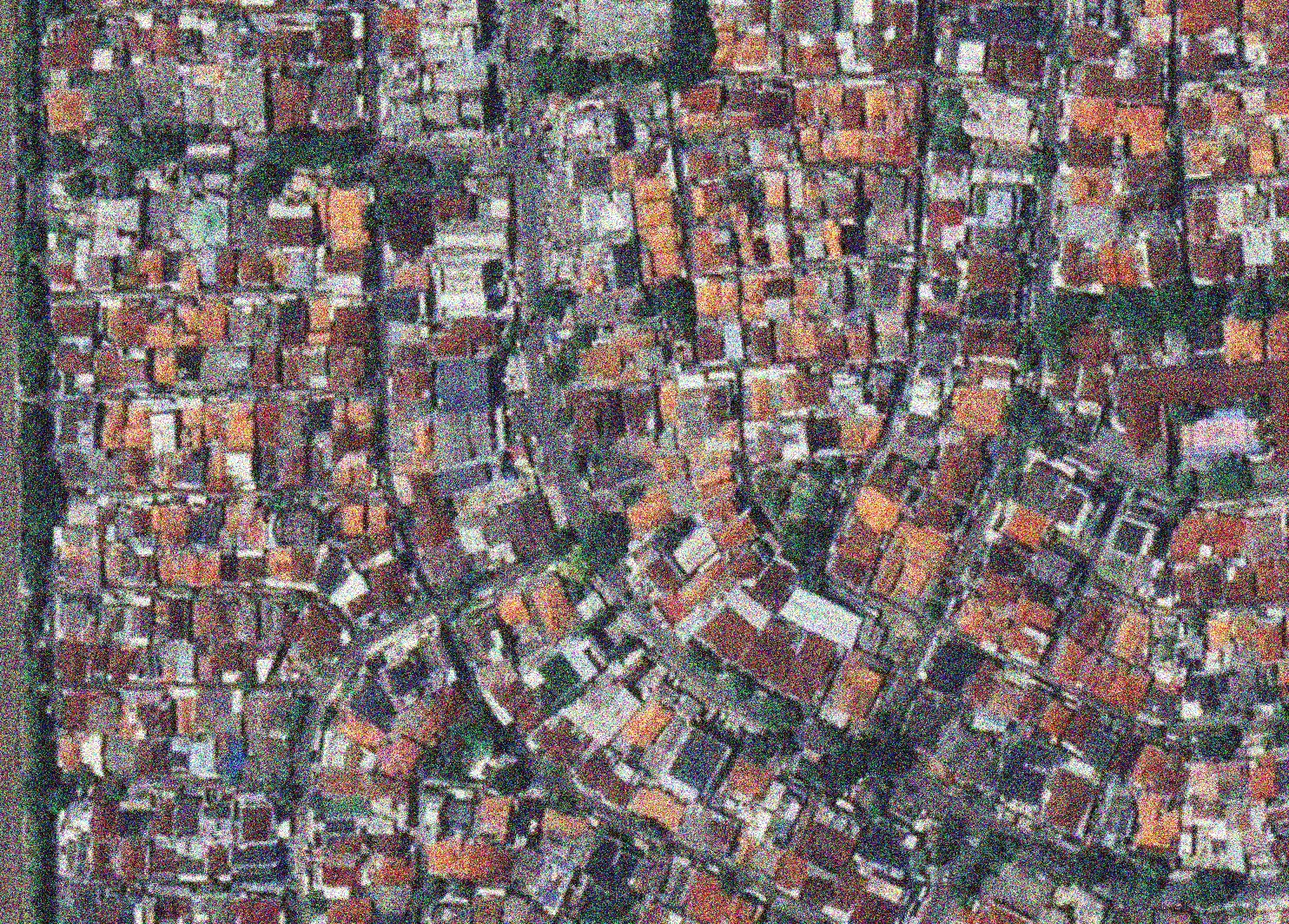building: (1116, 360, 1288, 467), (1175, 75, 1289, 182), (790, 75, 922, 167), (791, 78, 922, 167), (793, 81, 922, 166), (794, 81, 922, 166), (795, 81, 922, 166), (357, 618, 462, 714), (866, 513, 956, 614), (383, 672, 477, 763), (1081, 406, 1177, 494), (429, 171, 515, 266), (560, 664, 645, 750), (1065, 94, 1170, 157), (570, 0, 672, 64), (1089, 523, 1171, 602), (776, 580, 867, 650), (739, 773, 810, 861), (1033, 751, 1105, 837), (663, 719, 736, 799), (478, 665, 552, 743), (823, 510, 894, 590), (736, 614, 809, 691), (978, 851, 1057, 922), (822, 645, 892, 725), (989, 732, 1061, 809), (569, 742, 645, 814), (892, 681, 963, 758), (580, 437, 653, 510), (1180, 665, 1280, 718), (578, 825, 649, 899), (555, 94, 635, 159), (421, 833, 517, 887), (778, 629, 844, 707), (957, 85, 1039, 146), (1009, 448, 1078, 520), (852, 809, 924, 878), (384, 411, 440, 499), (793, 805, 863, 875), (1182, 130, 1276, 182), (923, 149, 970, 252), (710, 754, 776, 826), (1085, 776, 1145, 854), (455, 605, 519, 678), (528, 708, 596, 776), (920, 633, 986, 703), (1176, 813, 1252, 873), (1168, 506, 1247, 563), (930, 429, 989, 505), (695, 601, 762, 667), (285, 598, 351, 665), (818, 359, 879, 430), (937, 1, 1040, 43), (1081, 48, 1161, 102), (54, 505, 103, 593), (885, 515, 954, 576), (525, 570, 582, 643), (660, 512, 725, 576), (1100, 600, 1162, 666), (571, 238, 640, 296), (746, 549, 808, 613), (1185, 219, 1245, 285), (1058, 482, 1118, 548), (948, 592, 1013, 652), (133, 55, 186, 128), (1067, 0, 1128, 63), (1105, 501, 1164, 565), (673, 554, 735, 614), (629, 535, 689, 597), (85, 67, 143, 131), (345, 673, 407, 732), (420, 0, 478, 63), (948, 726, 1003, 791), (618, 693, 676, 754), (300, 541, 358, 601), (676, 867, 737, 924), (391, 463, 446, 526), (1132, 789, 1184, 855), (627, 780, 691, 833), (417, 533, 476, 590), (556, 625, 613, 684), (846, 483, 906, 539), (856, 25, 926, 73), (403, 492, 458, 553), (902, 365, 946, 441), (214, 70, 266, 134), (1067, 588, 1119, 651), (434, 357, 491, 414), (619, 482, 678, 537), (364, 555, 418, 615), (528, 852, 578, 916), (311, 61, 358, 128), (435, 262, 489, 320), (1077, 711, 1129, 771), (949, 384, 1006, 438), (429, 315, 497, 360), (725, 83, 790, 129), (688, 459, 744, 512), (1032, 884, 1108, 923), (329, 704, 387, 755), (92, 194, 140, 255), (306, 724, 360, 778), (672, 370, 714, 439), (428, 407, 474, 470), (180, 193, 232, 248), (1104, 660, 1155, 716), (387, 192, 433, 254), (981, 534, 1035, 586), (997, 500, 1052, 551), (1102, 723, 1150, 781), (1187, 756, 1247, 802), (676, 81, 728, 134), (43, 17, 96, 69), (119, 688, 172, 740), (1136, 678, 1187, 732), (997, 617, 1052, 667), (822, 863, 871, 918), (725, 129, 792, 169), (654, 853, 701, 910), (1051, 472, 1097, 530), (230, 842, 289, 887), (1024, 542, 1077, 592), (725, 537, 778, 587), (1153, 743, 1199, 800), (606, 641, 658, 691), (970, 566, 1023, 615), (1179, 35, 1242, 76), (432, 457, 495, 498), (1061, 395, 1107, 451), (960, 321, 1021, 363), (983, 43, 1041, 87), (909, 488, 961, 537), (327, 188, 369, 248), (724, 584, 776, 632), (980, 675, 1028, 727), (1044, 634, 1091, 687), (480, 500, 530, 549), (175, 299, 227, 346), (269, 75, 312, 131), (724, 754, 775, 801), (691, 221, 737, 273), (181, 498, 227, 550), (243, 734, 289, 786), (629, 848, 674, 901), (503, 794, 546, 849), (783, 33, 839, 75), (328, 566, 375, 616), (1059, 700, 1104, 752), (1127, 739, 1172, 791), (146, 189, 187, 246), (961, 657, 1005, 710), (102, 543, 156, 586), (537, 805, 591, 848), (195, 687, 242, 736), (268, 198, 314, 248), (698, 810, 744, 860), (741, 416, 786, 467), (1033, 692, 1077, 744), (1060, 204, 1120, 242), (673, 799, 718, 849), (769, 847, 814, 897), (1010, 678, 1054, 729), (710, 510, 761, 554), (1009, 593, 1061, 636), (741, 368, 783, 421), (1067, 320, 1112, 369), (965, 252, 1020, 292), (784, 34, 839, 74), (473, 791, 514, 844), (242, 694, 292, 737), (1178, 0, 1239, 35), (1063, 129, 1115, 170), (312, 13, 353, 65), (621, 383, 659, 439), (888, 425, 937, 468), (104, 300, 149, 346), (56, 640, 104, 683), (439, 793, 482, 841), (888, 426, 937, 468), (54, 593, 96, 642), (265, 545, 315, 586), (1102, 325, 1153, 365), (519, 492, 558, 543), (592, 768, 638, 811), (1083, 653, 1124, 701), (508, 846, 548, 895), (1122, 152, 1173, 190), (1244, 512, 1288, 556), (104, 642, 148, 686), (701, 490, 747, 532), (231, 198, 268, 250), (56, 403, 95, 452), (846, 888, 899, 924), (331, 303, 374, 347), (46, 88, 88, 133), (414, 787, 447, 844), (1096, 239, 1136, 286), (953, 900, 1034, 923), (918, 279, 961, 322), (695, 277, 738, 320), (386, 317, 430, 359), (278, 504, 320, 548), (235, 639, 277, 683), (1153, 330, 1194, 375), (327, 345, 368, 390), (1224, 317, 1264, 363), (863, 467, 909, 507), (662, 473, 702, 519), (837, 414, 883, 454), (200, 21, 240, 67), (873, 36, 924, 72), (183, 140, 235, 175), (1220, 560, 1258, 607), (149, 737, 192, 778), (1061, 240, 1099, 286), (652, 586, 693, 628), (136, 247, 179, 287), (155, 640, 195, 683), (493, 590, 533, 632), (915, 330, 959, 368), (150, 502, 188, 546), (579, 342, 624, 379), (762, 217, 794, 269), (56, 451, 102, 487), (678, 82, 725, 117), (257, 597, 292, 644), (737, 273, 770, 322), (1175, 93, 1214, 134), (57, 884, 98, 923), (805, 414, 842, 457), (153, 597, 190, 640), (872, 171, 908, 215), (754, 85, 790, 129), (1146, 237, 1181, 282), (842, 317, 877, 362), (86, 691, 121, 736), (966, 290, 1015, 322), (228, 894, 282, 923), (603, 265, 642, 305), (1069, 168, 1111, 205), (630, 144, 672, 181), (333, 450, 375, 487), (58, 688, 91, 735), (610, 239, 640, 290), (228, 842, 279, 872), (862, 871, 907, 905), (1183, 674, 1221, 714), (671, 606, 711, 644), (382, 740, 420, 780), (1109, 238, 1140, 287), (1193, 559, 1226, 605), (814, 320, 847, 366), (1005, 43, 1041, 85), (595, 191, 631, 233), (1245, 82, 1288, 117), (226, 400, 254, 453), (797, 871, 835, 910), (1075, 365, 1111, 406), (388, 258, 430, 293), (390, 391, 432, 426), (1152, 902, 1222, 923), (1241, 0, 1288, 31), (612, 324, 659, 355), (1186, 138, 1224, 176), (195, 300, 227, 345), (53, 302, 95, 336), (465, 410, 496, 456), (60, 835, 91, 881), (684, 147, 727, 180), (103, 734, 136, 777), (872, 265, 902, 312), (738, 274, 768, 321), (1185, 320, 1225, 355), (1191, 241, 1225, 282), (569, 156, 610, 190), (240, 802, 274, 843), (277, 300, 307, 346), (257, 28, 293, 66), (970, 226, 1017, 255), (1242, 29, 1276, 69), (1128, 126, 1169, 159), (209, 641, 242, 682), (362, 771, 407, 801), (635, 197, 677, 229), (1247, 755, 1276, 801), (321, 245, 367, 274), (574, 293, 617, 324), (118, 347, 149, 390), (1241, 227, 1275, 266), (685, 435, 734, 462), (864, 363, 897, 403), (954, 40, 986, 81), (149, 16, 181, 57), (1255, 618, 1284, 663), (250, 301, 279, 346), (319, 768, 364, 797), (124, 601, 153, 646), (433, 67, 483, 93), (1216, 186, 1244, 232), (173, 793, 201, 839), (425, 895, 471, 923), (629, 342, 668, 375), (1187, 761, 1219, 801), (1251, 555, 1280, 599), (721, 894, 765, 923), (1072, 648, 1102, 690), (780, 419, 810, 461), (117, 839, 147, 881), (327, 895, 372, 923), (371, 856, 413, 886), (876, 211, 910, 248), (1180, 37, 1213, 75), (689, 182, 722, 220), (734, 33, 767, 71), (343, 590, 381, 623), (790, 317, 819, 360), (423, 0, 477, 23), (91, 796, 118, 842), (694, 324, 725, 364), (251, 346, 279, 390), (277, 446, 307, 487), (219, 734, 244, 783), (123, 447, 152, 489), (277, 402, 304, 447), (1128, 186, 1171, 214), (300, 346, 328, 389), (970, 164, 1030, 184), (656, 378, 681, 426), (602, 389, 626, 439), (391, 369, 431, 399), (173, 690, 198, 738), (1172, 561, 1198, 607), (233, 595, 259, 641), (385, 29, 420, 63), (1266, 802, 1288, 856), (188, 550, 221, 586), (154, 892, 192, 923), (1132, 211, 1174, 239), (779, 370, 807, 412), (763, 277, 791, 319), (210, 643, 240, 682), (714, 16, 736, 69), (200, 346, 227, 389), (208, 598, 235, 641), (149, 795, 176, 838), (570, 404, 599, 444), (96, 602, 125, 642), (1239, 823, 1272, 858), (887, 0, 919, 36), (307, 298, 331, 346), (255, 400, 280, 446), (644, 224, 681, 255), (183, 87, 214, 124), (745, 806, 776, 843), (977, 360, 1015, 390), (633, 174, 671, 204), (95, 348, 122, 390), (237, 506, 264, 548), (369, 885, 411, 912), (379, 3, 418, 32), (792, 274, 818, 317), (433, 190, 469, 221), (653, 452, 689, 483), (1266, 310, 1288, 360), (727, 201, 752, 245), (97, 451, 125, 490), (1137, 15, 1171, 47), (363, 525, 397, 557), (423, 96, 459, 126), (1266, 807, 1288, 856), (80, 734, 105, 777), (187, 739, 216, 776), (733, 832, 762, 869), (150, 411, 176, 452), (1241, 190, 1269, 228), (289, 29, 317, 67), (101, 404, 124, 450), (706, 381, 730, 425), (125, 404, 149, 448), (457, 523, 489, 556), (470, 893, 504, 924), (152, 348, 179, 387), (239, 249, 269, 284), (228, 303, 253, 345), (176, 346, 205, 382), (205, 446, 228, 491), (771, 319, 795, 362), (748, 322, 772, 365), (673, 691, 705, 723), (608, 151, 634, 190), (137, 248, 163, 287), (324, 796, 368, 819), (1263, 27, 1288, 67), (986, 189, 1013, 226), (117, 808, 149, 839), (722, 319, 745, 362), (834, 30, 857, 73), (650, 250, 684, 279), (123, 16, 152, 50), (385, 294, 420, 322), (365, 500, 393, 535), (1212, 89, 1239, 125), (802, 372, 829, 408), (176, 451, 203, 487), (1053, 362, 1079, 399), (287, 250, 313, 287), (392, 344, 429, 370), (340, 503, 366, 540), (278, 607, 304, 644), (876, 331, 908, 361), (91, 841, 115, 881), (1221, 142, 1249, 176), (150, 841, 178, 875), (1253, 896, 1288, 923), (458, 94, 484, 130), (65, 496, 97, 525), (807, 0, 835, 33), (828, 272, 848, 318), (85, 256, 112, 290), (57, 735, 83, 770), (369, 831, 404, 857), (215, 248, 236, 291), (202, 401, 224, 442), (763, 171, 786, 210), (860, 132, 888, 164), (55, 348, 92, 372), (226, 346, 250, 383), (907, 393, 941, 419), (786, 168, 807, 210), (96, 504, 118, 544), (1206, 615, 1231, 650), (740, 0, 769, 30), (486, 540, 517, 568), (781, 0, 808, 32), (307, 399, 334, 431), (821, 219, 842, 260), (321, 865, 360, 887), (734, 228, 757, 265), (929, 200, 963, 225), (1191, 799, 1225, 824), (61, 802, 90, 831), (502, 894, 531, 923), (281, 348, 303, 386), (397, 101, 423, 133), (802, 180, 822, 221), (226, 451, 253, 481), (347, 395, 373, 426), (874, 310, 906, 335), (865, 86, 884, 128), (802, 227, 826, 260), (328, 834, 363, 856), (60, 209, 93, 232), (931, 249, 959, 276), (178, 396, 203, 426), (1193, 195, 1217, 226), (259, 446, 278, 485), (196, 249, 217, 284), (237, 557, 265, 583), (117, 894, 142, 923), (1035, 903, 1071, 923), (818, 174, 836, 213), (348, 425, 374, 452), (177, 28, 202, 56), (48, 231, 77, 255), (153, 455, 175, 486), (147, 322, 174, 347), (930, 278, 959, 301), (838, 129, 861, 158), (1177, 825, 1197, 858), (207, 847, 229, 877), (50, 264, 75, 290), (1231, 617, 1255, 644), (840, 225, 861, 255), (580, 195, 598, 230), (1187, 633, 1204, 670), (726, 176, 750, 202), (179, 857, 206, 880), (1274, 751, 1288, 795), (205, 895, 227, 923), (750, 236, 771, 265), (391, 63, 415, 88), (120, 701, 136, 738), (203, 799, 231, 820), (332, 426, 347, 465), (132, 507, 152, 536), (1275, 129, 1288, 172), (1116, 504, 1140, 527), (764, 279, 791, 299), (1272, 241, 1288, 274), (1248, 802, 1266, 831), (368, 815, 395, 834), (852, 0, 873, 24), (864, 227, 879, 260), (1234, 804, 1251, 833), (789, 234, 806, 262), (1274, 185, 1288, 216), (1143, 0, 1169, 16), (224, 503, 240, 528), (932, 45, 948, 68), (334, 468, 353, 487), (392, 398, 416, 406), (1146, 525, 1158, 538), (136, 742, 140, 776), (647, 103, 655, 118), (393, 359, 403, 367), (360, 426, 371, 432), (363, 398, 370, 406), (334, 427, 341, 435)
tree: (798, 717, 885, 808), (1143, 273, 1231, 342), (569, 505, 642, 578), (445, 698, 515, 770), (1095, 278, 1169, 343), (1060, 836, 1123, 899), (649, 42, 717, 100), (860, 726, 922, 786), (665, 0, 722, 62), (415, 734, 477, 791), (1109, 851, 1172, 906), (18, 455, 67, 525), (300, 125, 370, 174), (232, 155, 295, 209), (124, 124, 189, 175), (1225, 278, 1283, 335), (1031, 310, 1080, 370), (644, 272, 699, 324), (5, 531, 57, 583), (1019, 836, 1072, 886), (1201, 452, 1256, 500), (970, 826, 1020, 877), (1045, 284, 1097, 332), (6, 263, 49, 321), (677, 639, 731, 685), (927, 813, 970, 870), (576, 886, 642, 923), (1194, 720, 1247, 766), (437, 567, 496, 607), (1002, 385, 1050, 434), (1156, 462, 1206, 509), (753, 463, 798, 515), (540, 346, 588, 394), (797, 485, 844, 533), (1186, 869, 1243, 908), (372, 155, 434, 190), (265, 129, 316, 171), (934, 119, 980, 165), (13, 503, 60, 548), (537, 521, 584, 566), (946, 859, 987, 910), (18, 403, 54, 461), (549, 57, 597, 99), (553, 546, 597, 591), (13, 313, 56, 359), (578, 601, 626, 642), (718, 662, 762, 706), (1016, 143, 1061, 185), (11, 214, 47, 266), (406, 873, 449, 915), (780, 524, 830, 560), (280, 690, 314, 742), (531, 752, 577, 790), (567, 439, 615, 475), (653, 513, 695, 554), (543, 789, 592, 824), (101, 154, 142, 195), (742, 730, 790, 765), (760, 692, 803, 731), (488, 762, 532, 796), (596, 58, 651, 85), (532, 286, 572, 323), (20, 706, 56, 747), (431, 157, 472, 193), (18, 352, 51, 395), (304, 788, 343, 823), (22, 742, 56, 782), (601, 633, 646, 663), (41, 780, 77, 816), (270, 775, 306, 811), (7, 40, 40, 79), (522, 67, 557, 103), (21, 650, 52, 690), (544, 16, 578, 52), (107, 121, 142, 155), (670, 304, 704, 338), (63, 170, 96, 205), (491, 329, 523, 365), (1159, 493, 1195, 525), (935, 87, 968, 121), (27, 830, 53, 873), (532, 683, 565, 716), (388, 498, 421, 531), (1011, 343, 1043, 377), (10, 107, 41, 142), (69, 762, 101, 795), (23, 776, 53, 811), (561, 323, 598, 351), (232, 667, 264, 699), (627, 294, 660, 325), (1167, 400, 1202, 429), (15, 70, 41, 109), (554, 683, 590, 710), (617, 481, 650, 510), (17, 143, 43, 179), (547, 401, 578, 431), (797, 564, 828, 594), (813, 454, 850, 479), (866, 787, 892, 822), (1263, 274, 1288, 310), (257, 768, 297, 790), (440, 878, 478, 901), (301, 889, 332, 917), (14, 16, 39, 50), (1027, 420, 1056, 449), (369, 193, 397, 223), (1035, 16, 1063, 46), (867, 710, 894, 741), (330, 165, 366, 188), (209, 1, 243, 25), (200, 874, 233, 898), (40, 0, 74, 23), (532, 47, 559, 75), (1241, 396, 1271, 421), (1097, 460, 1129, 483), (15, 0, 43, 26), (1014, 323, 1040, 351), (288, 63, 324, 83), (26, 805, 53, 831), (21, 569, 48, 595), (918, 601, 944, 628), (24, 690, 50, 716), (930, 575, 952, 605), (1238, 701, 1264, 726), (1010, 449, 1035, 475), (998, 473, 1021, 501), (1054, 37, 1074, 69), (285, 588, 309, 614), (1265, 723, 1288, 750), (881, 243, 909, 265), (67, 0, 101, 18), (22, 612, 44, 639), (1254, 426, 1275, 454), (909, 848, 931, 874), (962, 784, 988, 806), (28, 868, 47, 898), (318, 703, 339, 730), (1106, 905, 1136, 923), (567, 581, 588, 606), (184, 124, 213, 142), (27, 900, 49, 923), (69, 68, 93, 89), (266, 490, 291, 510), (1185, 610, 1208, 631), (107, 779, 128, 800), (966, 559, 984, 582), (1147, 725, 1166, 744), (1044, 444, 1064, 461), (1056, 141, 1070, 163), (1134, 477, 1156, 491), (1128, 490, 1146, 507), (1276, 862, 1288, 886), (1275, 702, 1288, 720)
